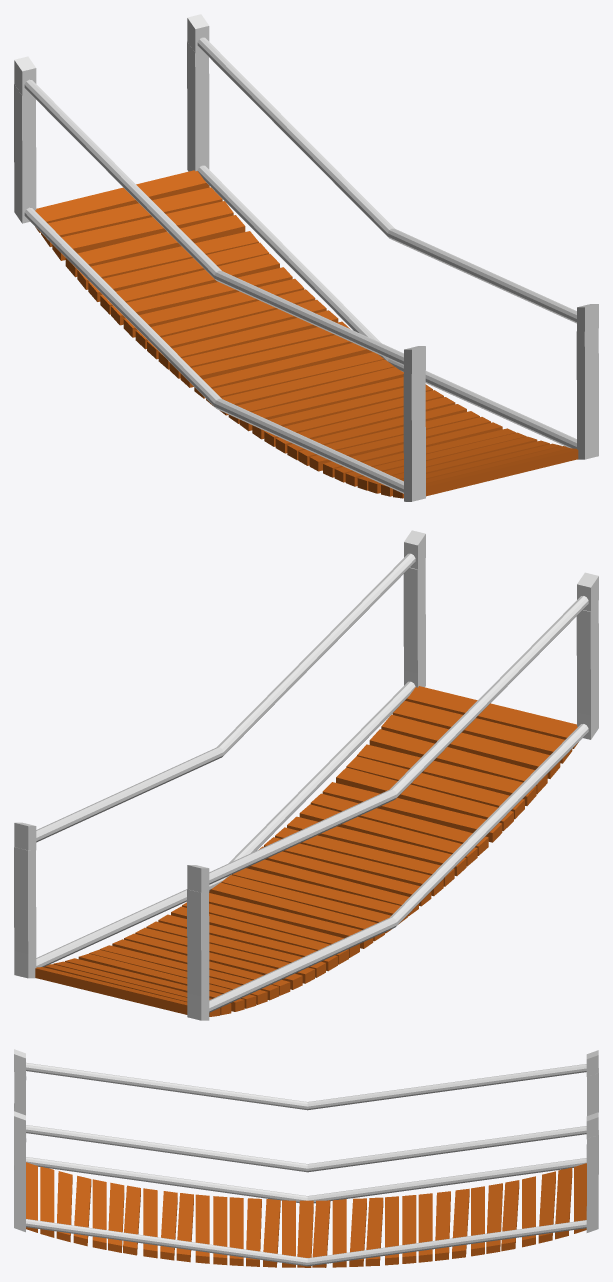
Rendered from tree_bridge_03.fbx.
3 views of the same model, one above another, from view 1: azimuth 30°, elevation 25°; view 2: azimuth 150°, elevation 25°; view 3: azimuth 270°, elevation 25° (orthographic). The views are drawn at different scales.
Visible parts, largest first — view 1: Cylinder.001; view 2: Cylinder.001; view 3: Cylinder.001.
Part boxes in pixels (left/top/right/bottom): Cylinder.001: left=14, top=14, right=598, bottom=501; Cylinder.001: left=14, top=530, right=598, bottom=1020; Cylinder.001: left=14, top=1049, right=598, bottom=1267.
Bounding box in the file's own units: 178 × 191 × 654.
